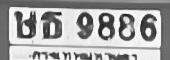6: (139, 13, 156, 40)
8: (97, 12, 114, 39), (118, 12, 134, 40)
9: (76, 11, 94, 39)
A24: (40, 10, 61, 38)
A39: (13, 10, 35, 38)
